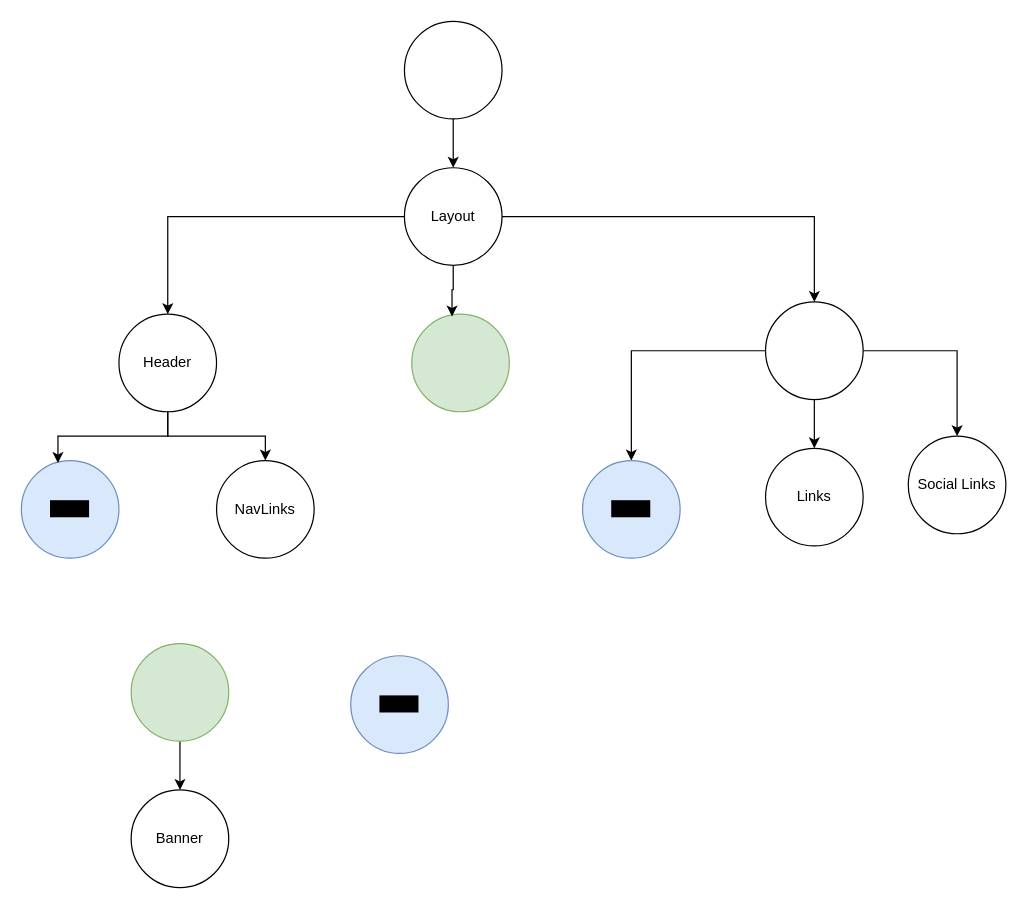
Image size: 1027x909. Some labels were removed from this diagram. The centre of each missing label's shape, as x and y in pixels:
"app" goes at point 452,69.
"Footer" goes at point 813,350.
"HomePage" goes at point 179,691.
"Pages" goes at point 460,362.
